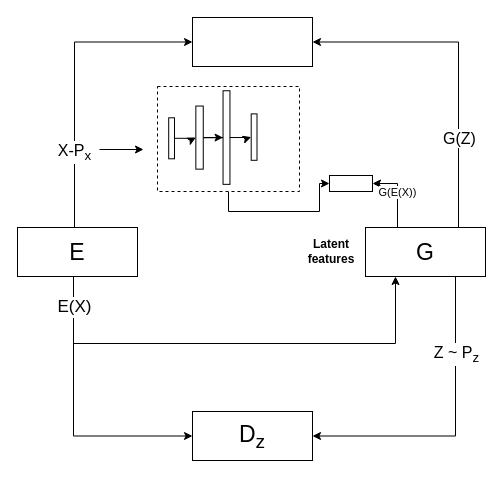
Image size: 503x478. Some labels were removed from this diagram. The box of each missing label's shape, as (x1, y1, x2, y2) in pixels:
D x: (192, 16, 312, 66)
L2: (328, 174, 372, 192)
